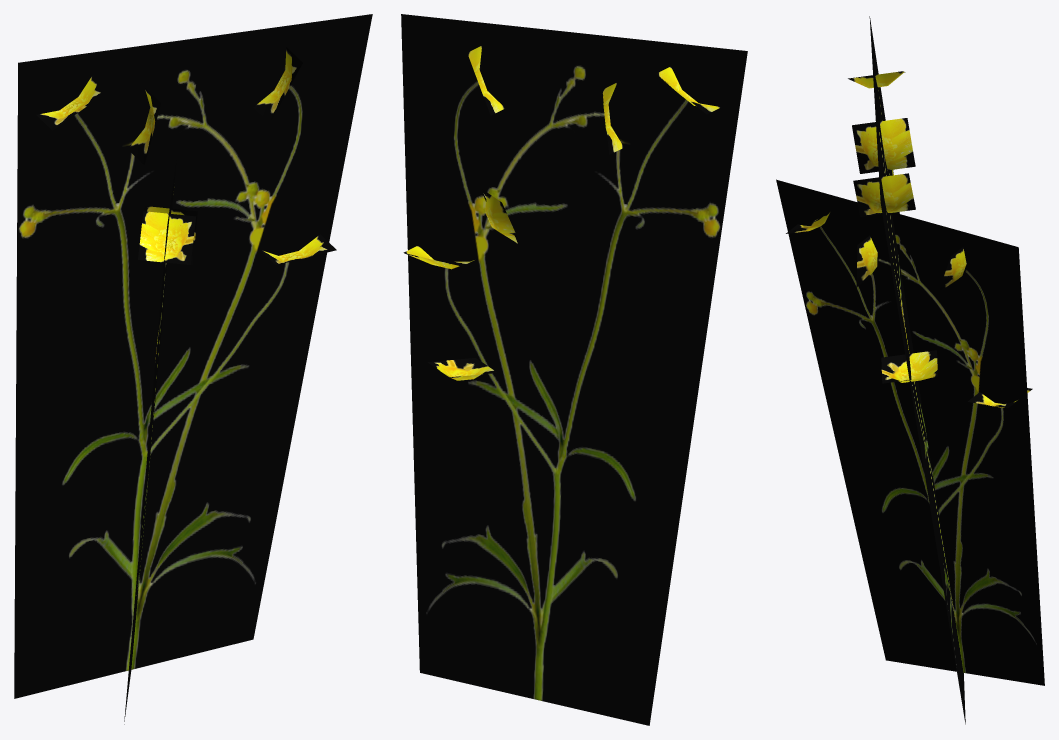
The model's file is 13_Ranunculus_acris_medium_001.fbx.
3 renders of one model, left to right at view 1: azimuth 30°, elevation 25°; view 2: azimuth 150°, elevation 25°; view 3: azimuth 270°, elevation 25°, orthographic. The views are drawn at different scales.
Parts seen in each view (by area): view 1: 13_Ranunculus_acris_medium.001; view 2: 13_Ranunculus_acris_medium.001; view 3: 13_Ranunculus_acris_medium.001.
Boxes of the visible parts, x1,y1,x2,y2 form: 13_Ranunculus_acris_medium.001: (14, 14, 372, 724); 13_Ranunculus_acris_medium.001: (401, 14, 747, 725); 13_Ranunculus_acris_medium.001: (776, 16, 1044, 724).
Bounding box in the file's own units: 0.1187 × 0.2193 × 0.0894.
